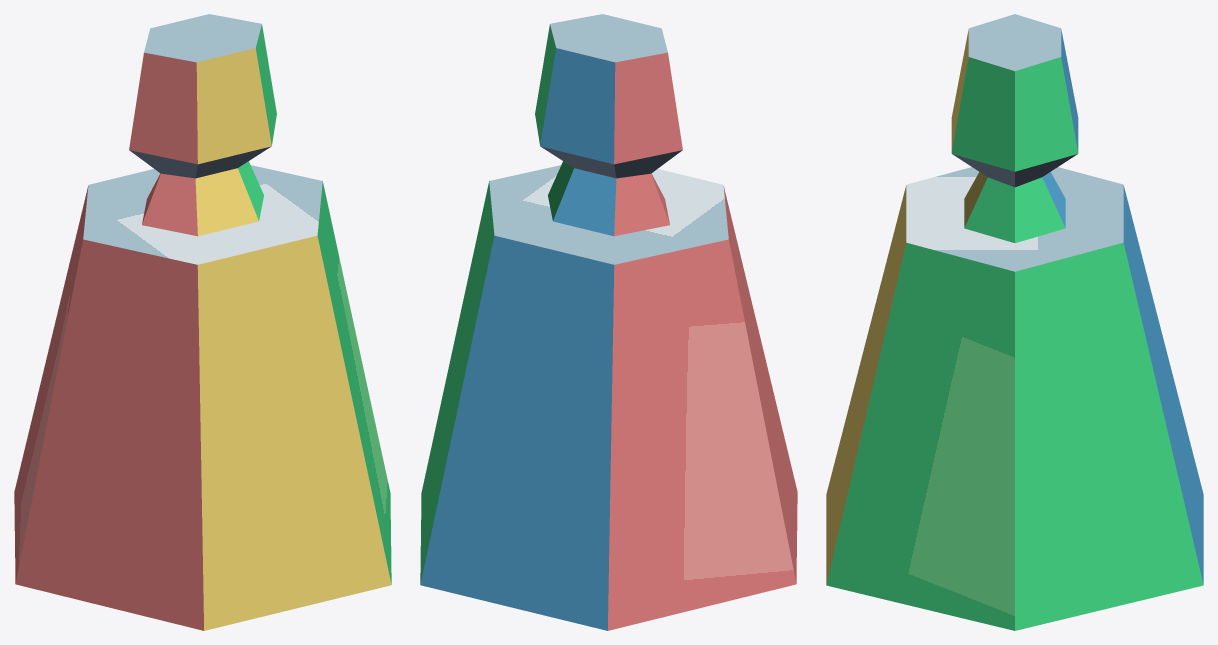
The model's file is weight_b.obj.
3 renders of one model, left to right at view 1: azimuth 30°, elevation 25°; view 2: azimuth 150°, elevation 25°; view 3: azimuth 270°, elevation 25°, orthographic.
Parts seen in each view (by area): view 1: cylinder; view 2: cylinder; view 3: cylinder.
Boxes of the visible parts, left/top/right/bottom form: cylinder: left=14, top=14, right=391, bottom=630; cylinder: left=420, top=14, right=797, bottom=630; cylinder: left=826, top=14, right=1203, bottom=630.
Size of the model in its own units: 0.1568 by 0.2 by 0.1375.
1 material, 1 textured.
